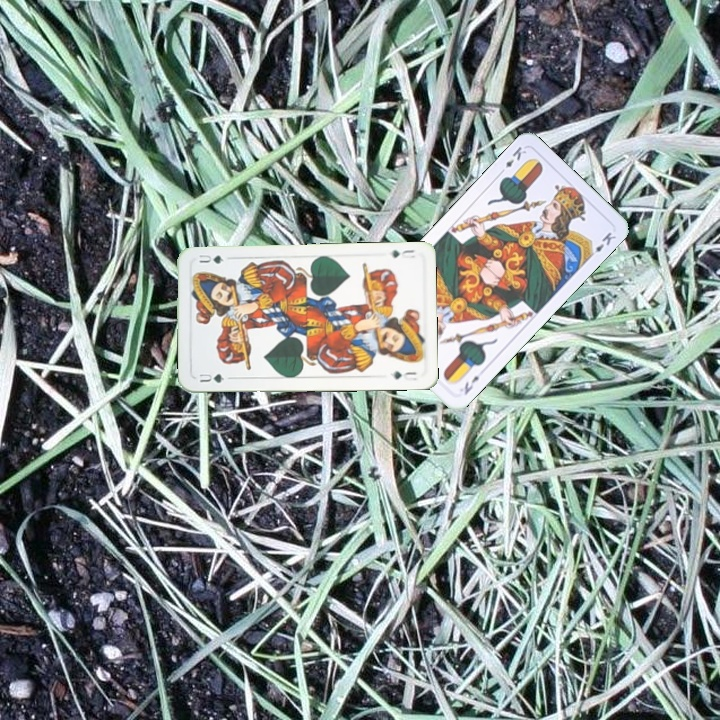EK: (495, 143, 529, 177), (460, 371, 482, 398)
GU: (195, 369, 227, 385), (385, 246, 417, 261)
